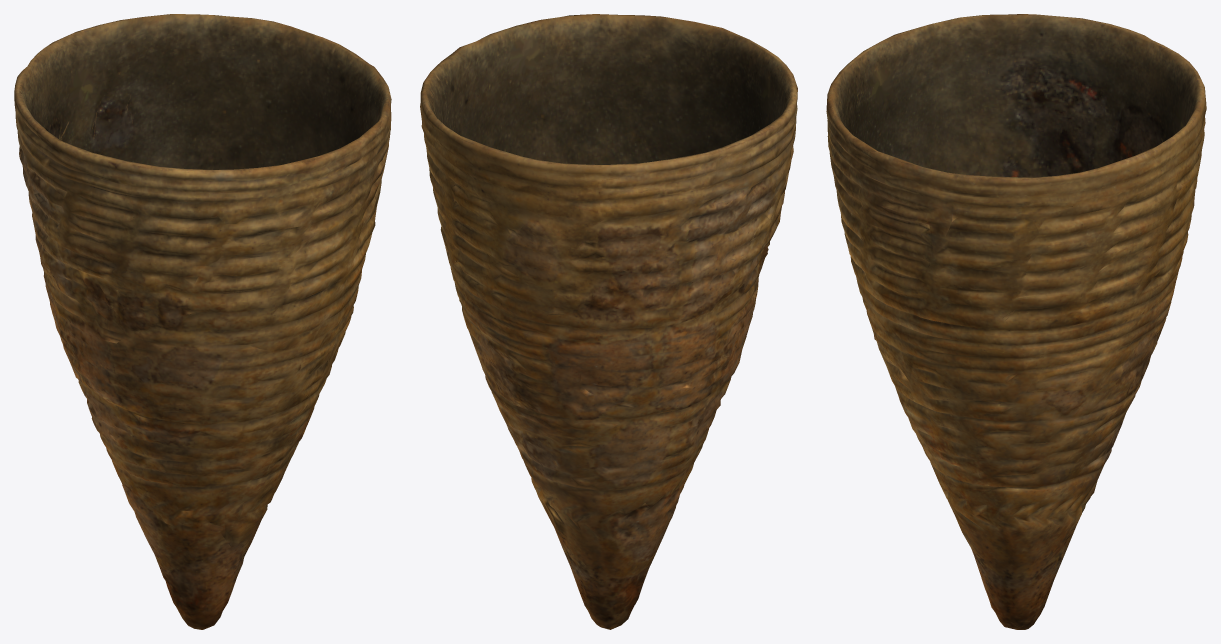
3 renders of one model, left to right at view 1: azimuth 30°, elevation 25°; view 2: azimuth 150°, elevation 25°; view 3: azimuth 270°, elevation 25°, orthographic.
Parts seen in each view (by area): view 1: MY0002_low; view 2: MY0002_low; view 3: MY0002_low.
Boxes of the visible parts, <box> form: MY0002_low: <box>14,14,391,629</box>; MY0002_low: <box>420,14,797,629</box>; MY0002_low: <box>826,14,1206,629</box>.
Size of the model in its own units: 188 by 296 by 190.
1 material, 1 textured.
